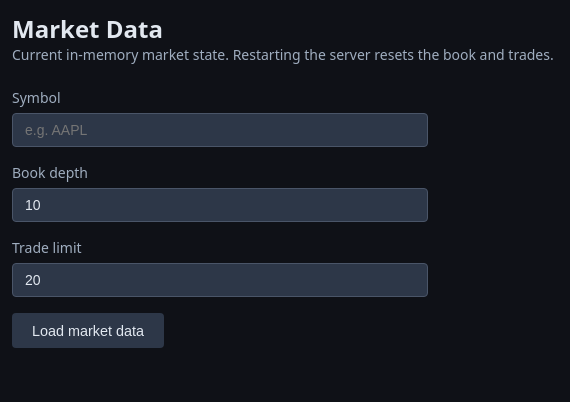
Scenario: MarketView – load behavior › disables button while loading
Type "AAPL" into the field labelled "Symbol".
click(220, 130); type("AAPL")  # box [12,113,428,147]
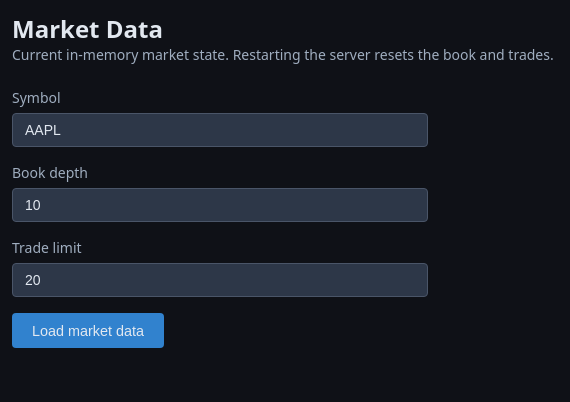
Click the button.
click(88, 331)  # box [12,313,164,348]
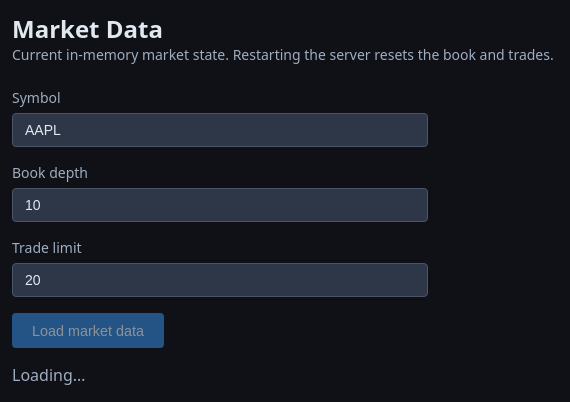
Now the button is disabled, box [12,313,164,348]
